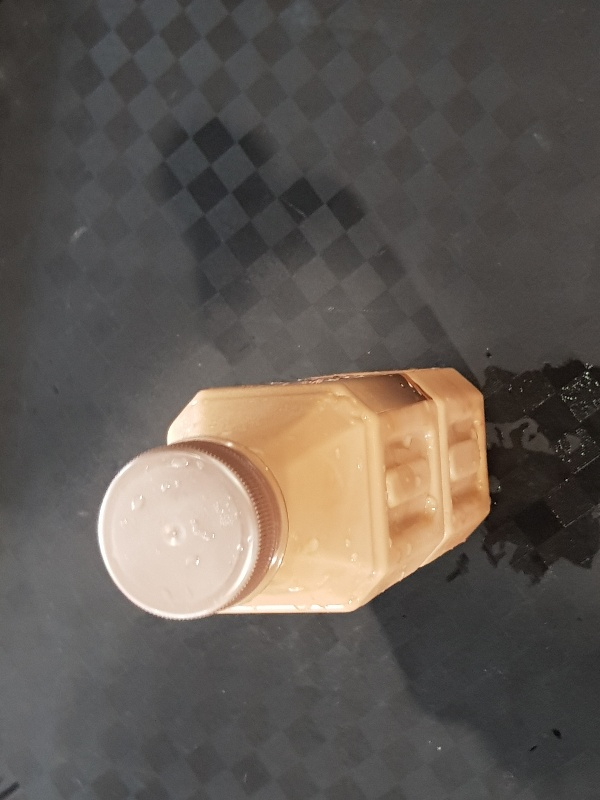Mocha: (94, 366, 492, 619)
